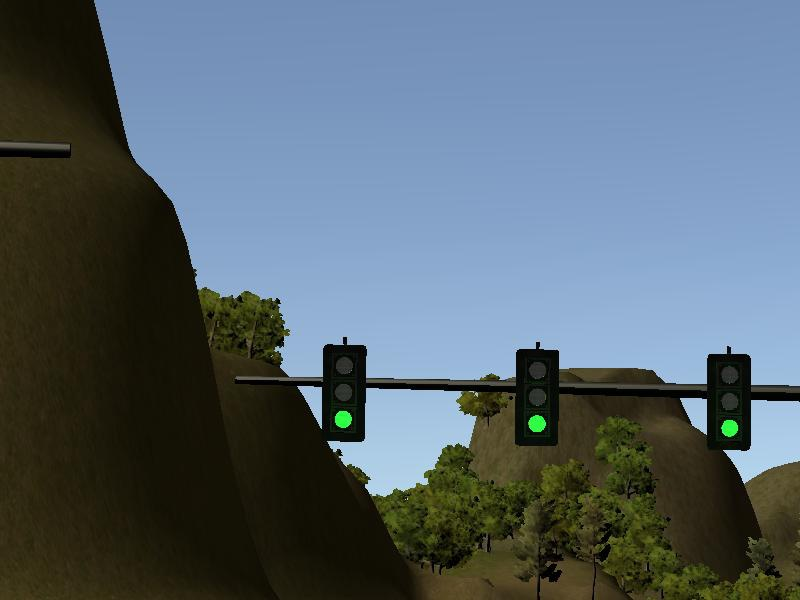Green: (708, 354, 751, 450), (323, 343, 365, 441), (518, 350, 558, 446)
